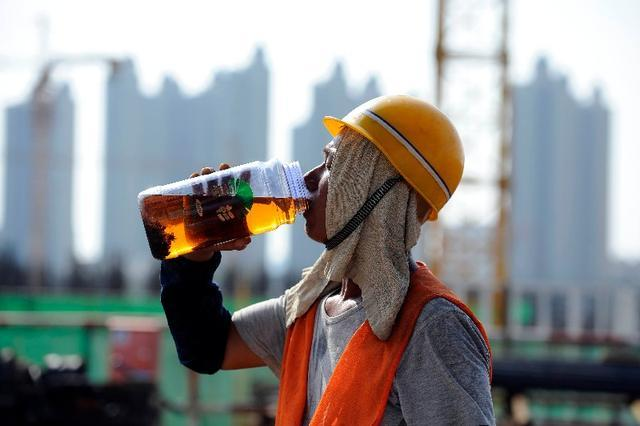helmet: (322, 93, 467, 225)
